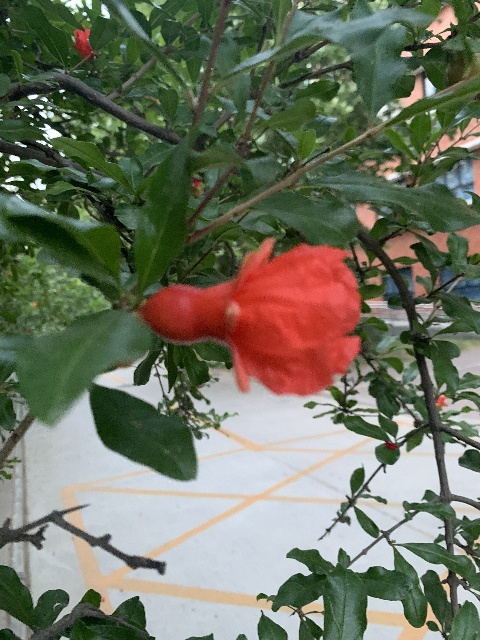flower: (138, 237, 363, 399), (71, 25, 96, 61)
